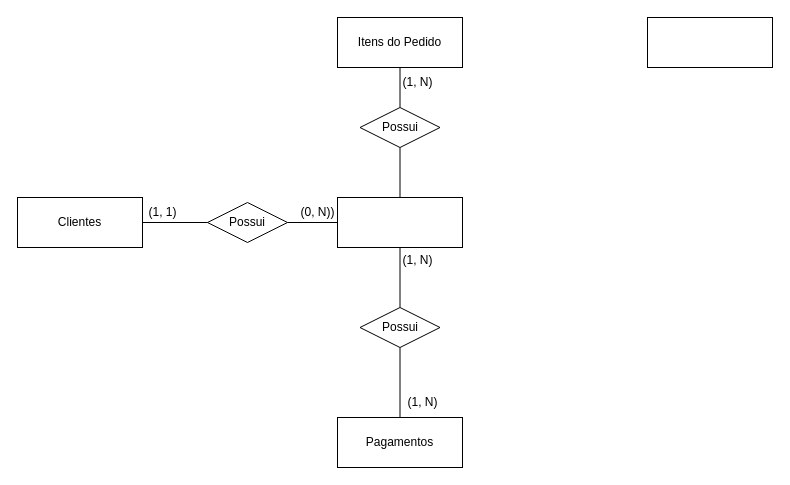
This 790x485 diagram has some shape labels left out. The shapes that lost their labels are listed below. From the top down, each one's centre as x and y in pixels, then its label:
At (709,42): "Produtos".
At (399,222): "Pedidos".
